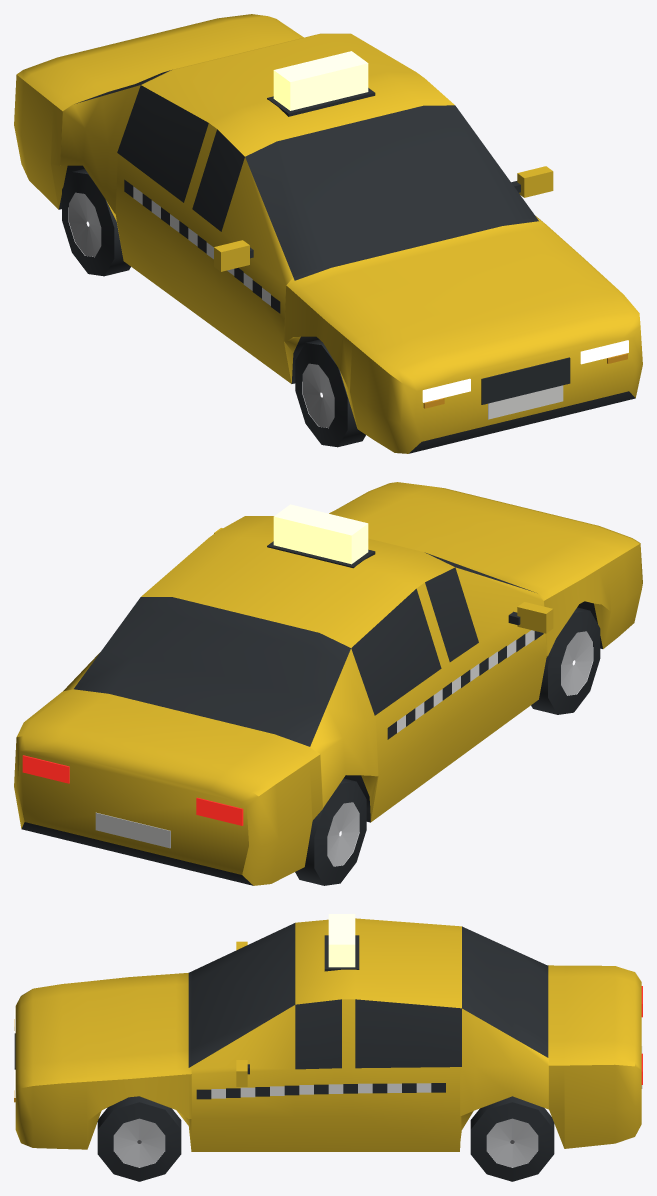
Rendered from taxi_lod1.glb.
3 views of the same model, one above another, from view 1: azimuth 30°, elevation 25°; view 2: azimuth 150°, elevation 25°; view 3: azimuth 270°, elevation 25° (orthographic). The views are drawn at different scales.
Visible parts, largest first — view 1: taxi_lod1; view 2: taxi_lod1; view 3: taxi_lod1.
Boxes of the visible parts, box(x1,y1,x2,y2) form: taxi_lod1: box(14, 14, 642, 453); taxi_lod1: box(14, 482, 642, 885); taxi_lod1: box(14, 914, 642, 1181).
Bounding box in the file's own units: 0.115 × 0.0842 × 0.2361.
